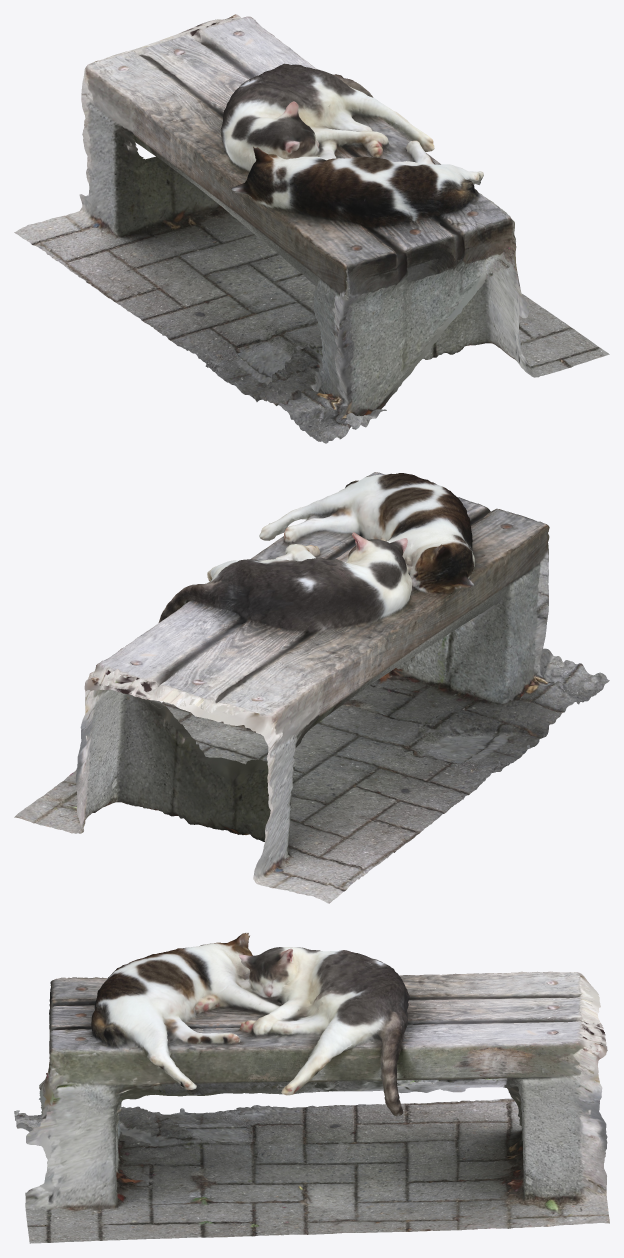
3 renders of one model, top to bottom at view 1: azimuth 30°, elevation 25°; view 2: azimuth 150°, elevation 25°; view 3: azimuth 270°, elevation 25°, orthographic. The views are drawn at different scales.
Visible parts, largest first — view 1: Object_2; view 2: Object_2; view 3: Object_2.
Boxes of the visible parts, box(x1,y1,x2,y2) form: Object_2: box(14, 14, 609, 443); Object_2: box(14, 472, 609, 903); Object_2: box(14, 933, 609, 1243).
Bounding box in the file's own units: 19.11 × 12.85 × 31.28.
1 material, 1 textured.
